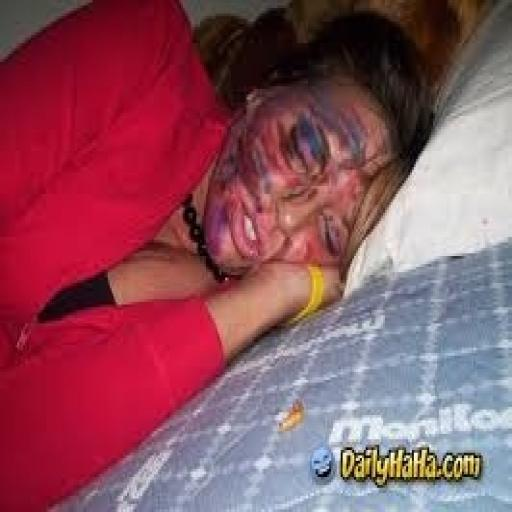sleeping: (0, 0, 502, 509)
